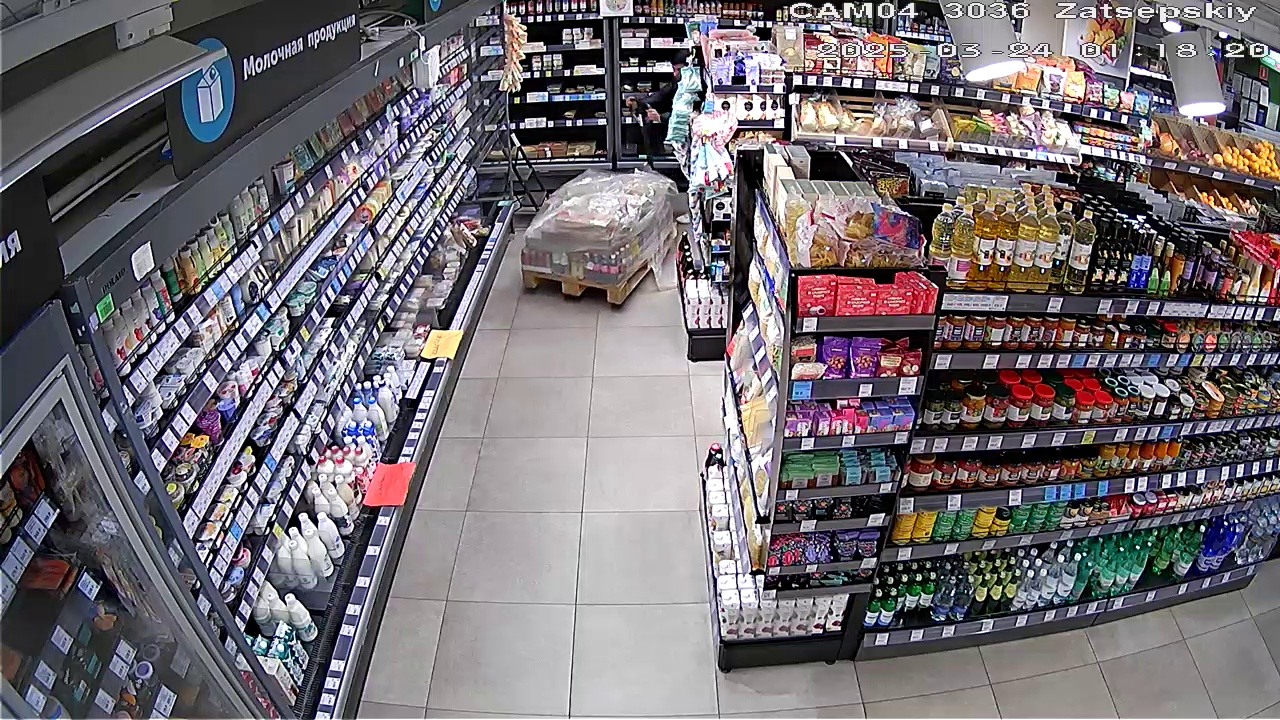Human: (622, 45, 688, 125)
pallet: (505, 158, 675, 307)
